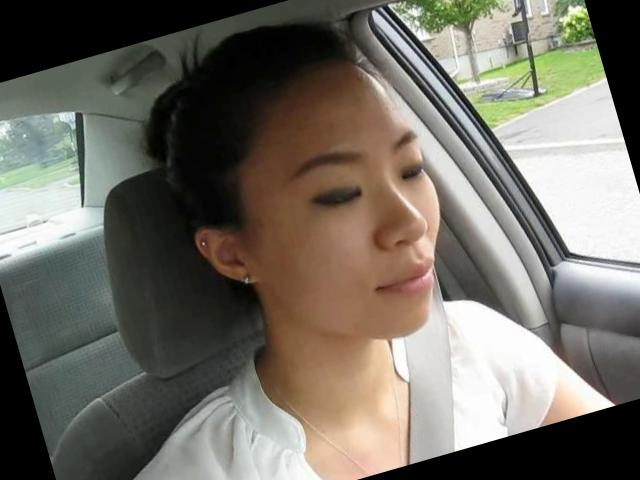eye_closed: (298, 173, 374, 227), (390, 152, 436, 192)
face: (237, 104, 483, 370)
